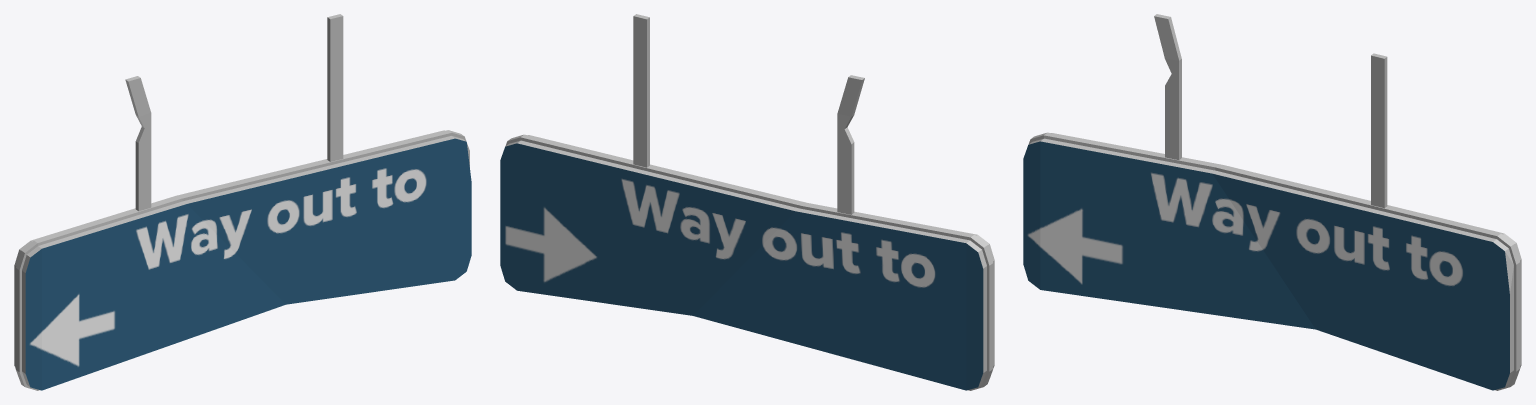
File: SM_Direction_Indicator_01.fbx
3 views of the same model, side by side, from view 1: azimuth 30°, elevation 25°; view 2: azimuth 150°, elevation 25°; view 3: azimuth 330°, elevation 25° (orthographic). The views are drawn at different scales.
Parts seen in each view (by area): view 1: SM_Direction_Indicator_01; view 2: SM_Direction_Indicator_01; view 3: SM_Direction_Indicator_01.
Part boxes in pixels (left/top/right/bottom): SM_Direction_Indicator_01: left=14, top=14, right=471, bottom=390; SM_Direction_Indicator_01: left=500, top=14, right=994, bottom=390; SM_Direction_Indicator_01: left=1023, top=14, right=1521, bottom=390.
Size of the model in its own units: 118 by 70.93 by 9.17.
